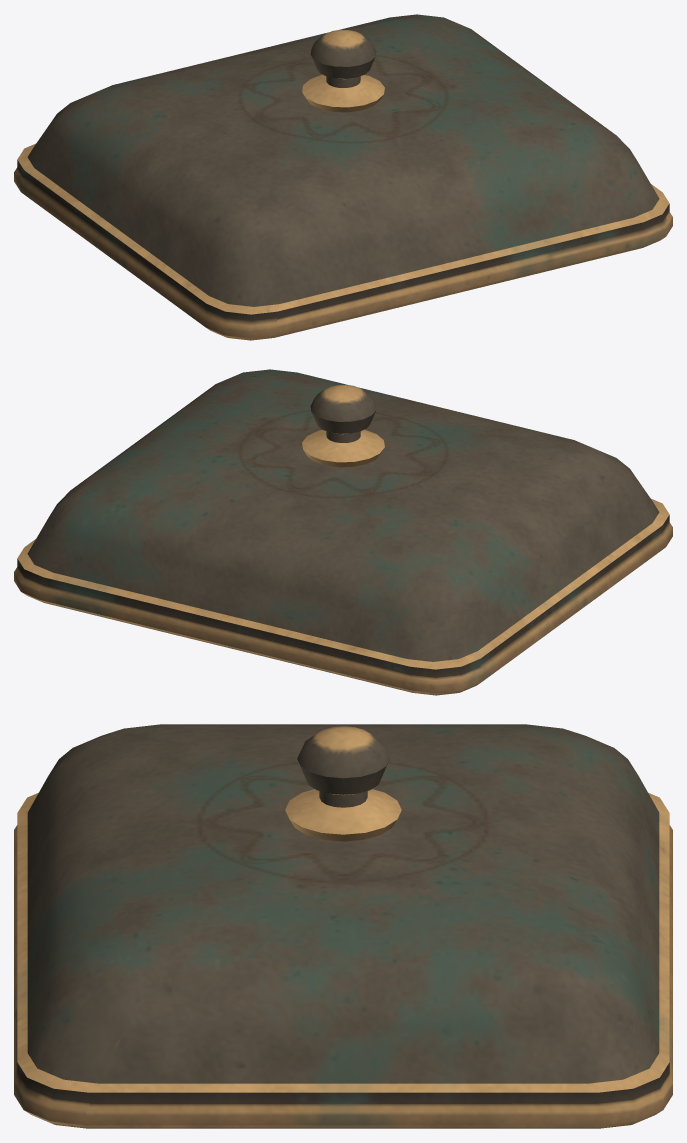
The model's file is Lid.fbx.
3 views of the same model, one above another, from view 1: azimuth 30°, elevation 25°; view 2: azimuth 150°, elevation 25°; view 3: azimuth 270°, elevation 25° (orthographic). The views are drawn at different scales.
Parts seen in each view (by area): view 1: Lid; view 2: Lid; view 3: Lid.
Part boxes in pixels (left/top/right/bottom): Lid: left=14, top=14, right=672, bottom=340; Lid: left=14, top=369, right=672, bottom=695; Lid: left=14, top=724, right=672, bottom=1128.
Bounding box in the file's own units: 0.216 × 0.082 × 0.192.
Materials: 1 (1 with a texture image).
